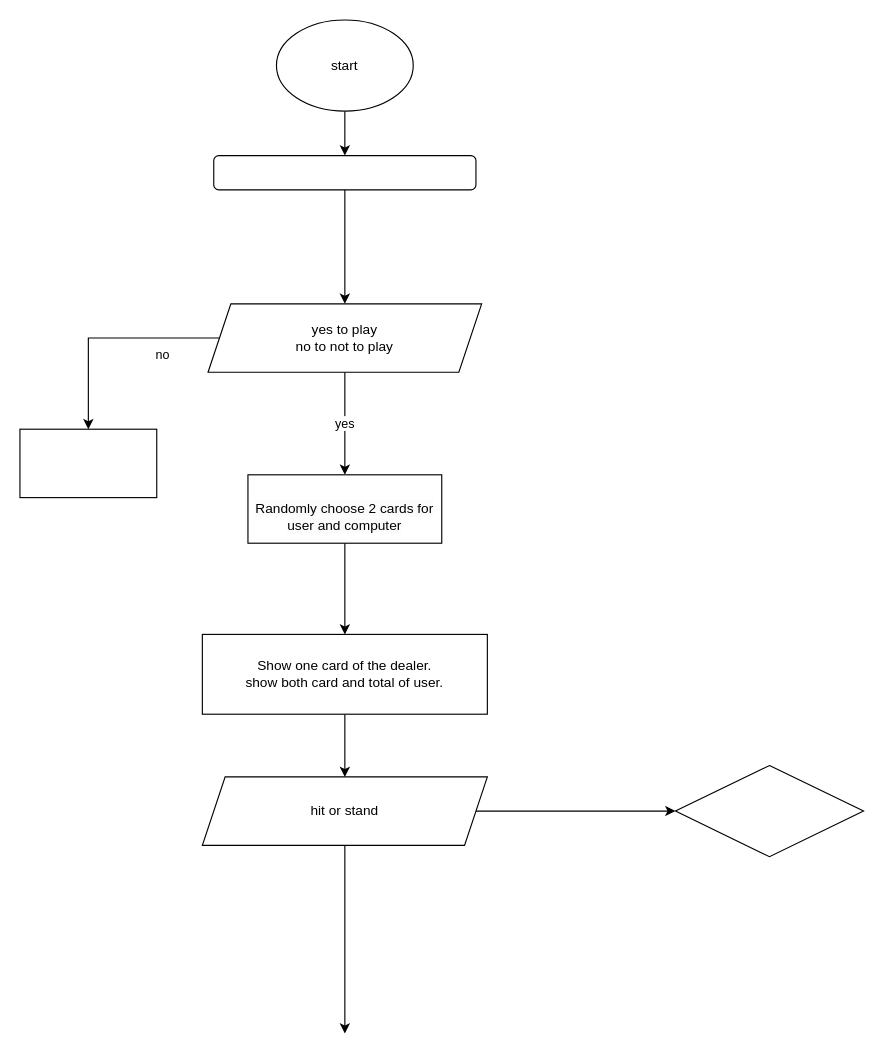
This 884x1062 diagram has some shape labels left out. The centre of each missing label's shape, as x and y in pixels:
Do you want to play a blackjack game: (x=344, y=172)
print have a good day: (x=88, y=463)
